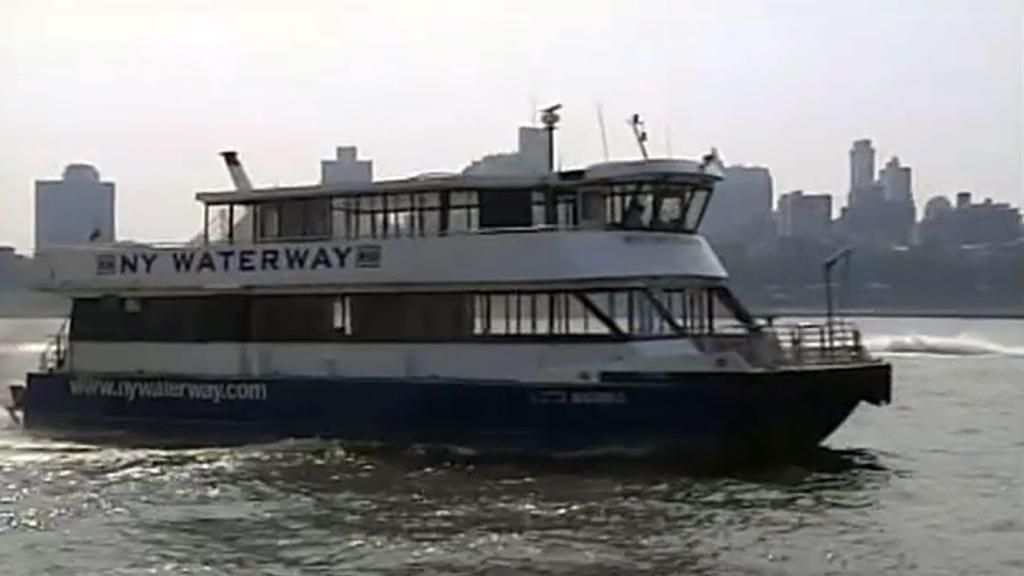PassengerShip: (0, 104, 906, 450)
